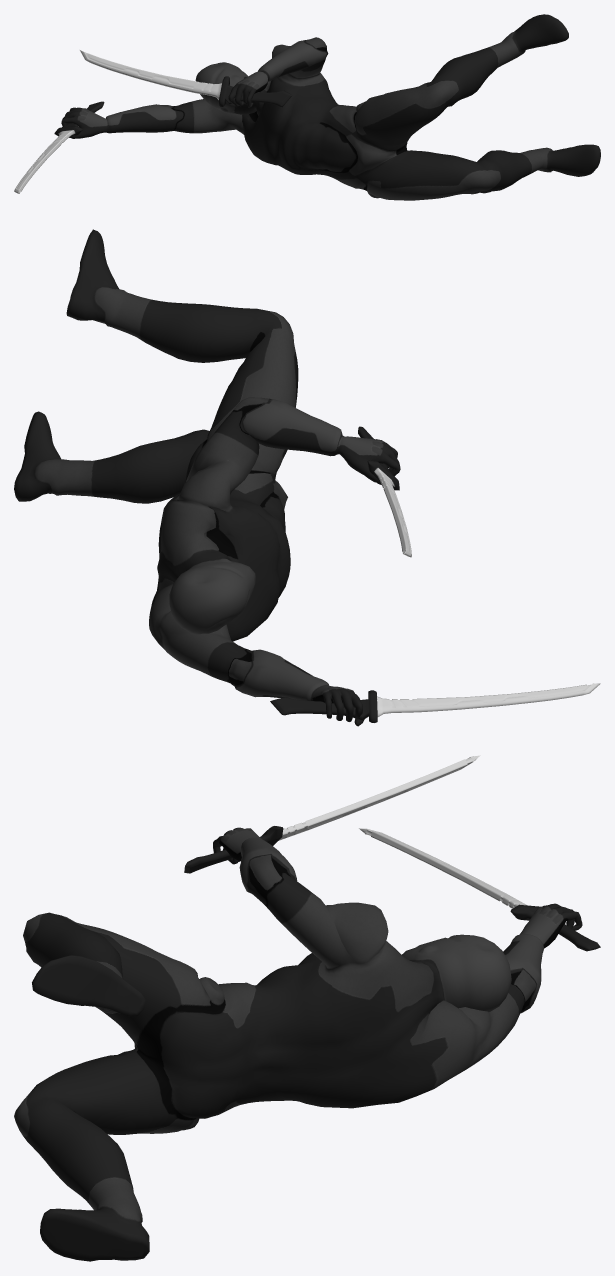
3 renders of one model, top to bottom at view 1: azimuth 30°, elevation 25°; view 2: azimuth 150°, elevation 25°; view 3: azimuth 270°, elevation 25°, orthographic. The views are drawn at different scales.
Parts seen in each view (by area): view 1: Cyborg_Ninja_Killer, Sword_l, Sword_l001; view 2: Cyborg_Ninja_Killer, Sword_l001, Sword_l; view 3: Cyborg_Ninja_Killer, Sword_l, Sword_l001.
Part boxes in pixels (x1,y1,x2,y2): Cyborg_Ninja_Killer: [61, 14, 600, 200]; Sword_l: [80, 50, 292, 107]; Sword_l001: [14, 101, 104, 193]; Cyborg_Ninja_Killer: [14, 229, 400, 726]; Sword_l001: [270, 683, 600, 722]; Sword_l: [358, 426, 411, 557]; Cyborg_Ninja_Killer: [14, 827, 582, 1261]; Sword_l: [184, 755, 480, 873]; Sword_l001: [359, 828, 600, 951].
Size of the model in its own units: 217 by 74.52 by 140.
2 materials, 2 textured.
